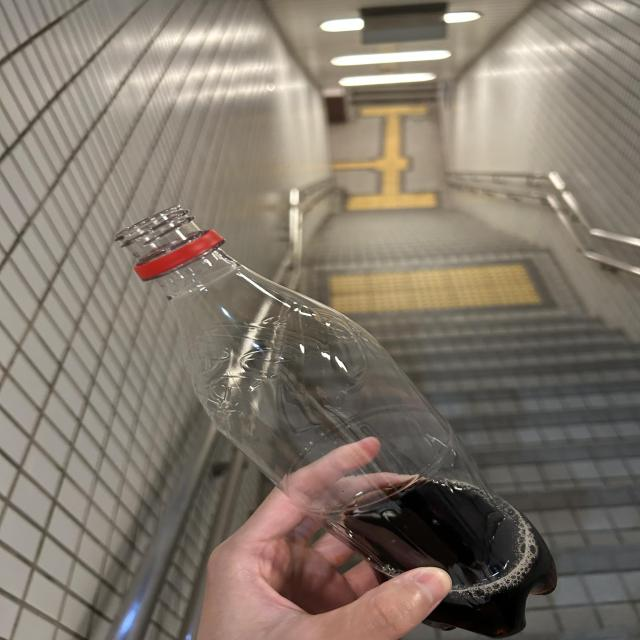low: (115, 207, 556, 637)
